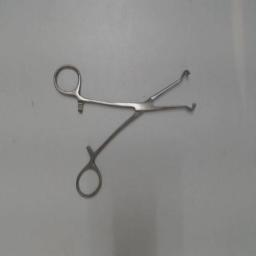Babcock Tissue Forceps: (50, 60, 200, 202)
